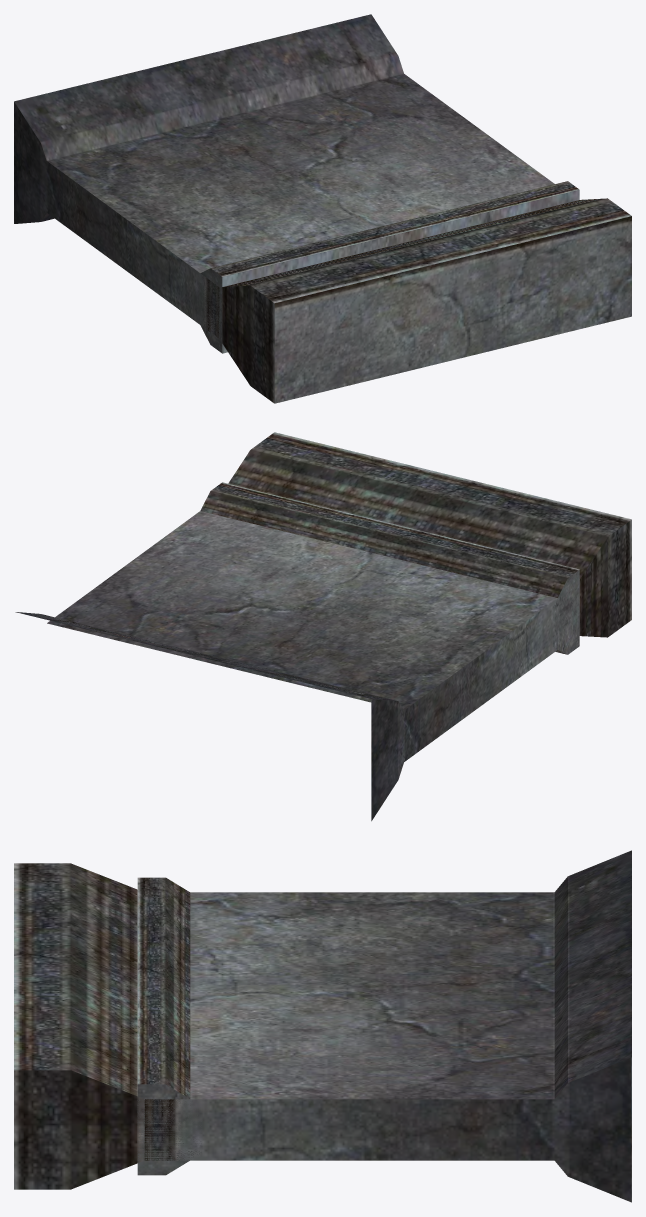
The picture shows the model from 3 angles, top to bottom: view 1: azimuth 30°, elevation 25°; view 2: azimuth 150°, elevation 25°; view 3: azimuth 270°, elevation 25°; orthographic projection. The views are drawn at different scales.
Visible parts, largest first — view 1: model_Object31; view 2: model_Object31; view 3: model_Object31.
Part boxes in pixels (bbox=[...]): model_Object31: bbox=[14, 14, 631, 403]; model_Object31: bbox=[15, 432, 631, 821]; model_Object31: bbox=[14, 850, 631, 1202].
Size of the model in its own units: 2.39 by 0.7837 by 3.02.
Materials: 1 (1 with a texture image).
